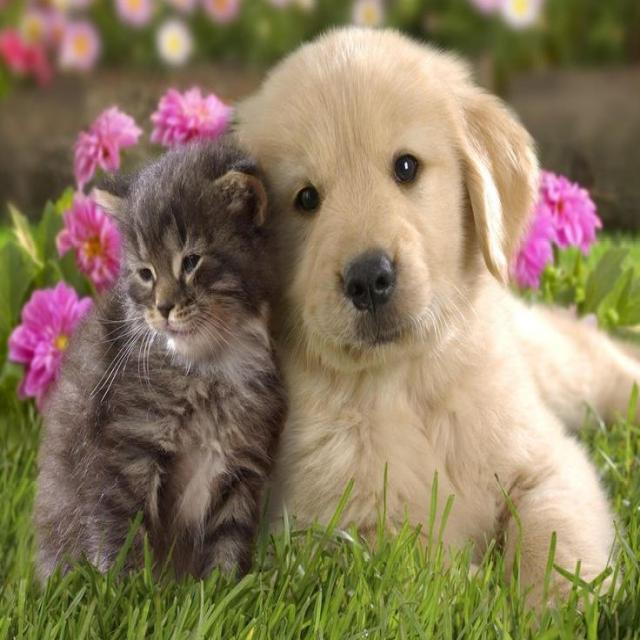cat: (20, 140, 280, 607)
dog: (282, 46, 640, 619)
